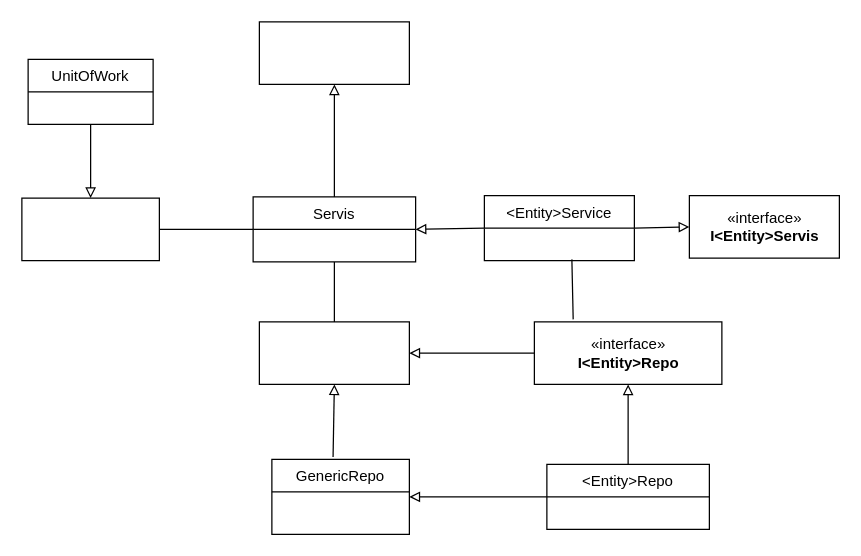
The diagram is 861 pixels wide and 556 high, and some of its shapes have lost their labels. The centre of each missing label's shape, as x and y in pixels:
«interface» IGenericRepo: the point at 333,352
«interface» IServis: the point at 333,52
«interface» IUnitOfWork: the point at 90,229
